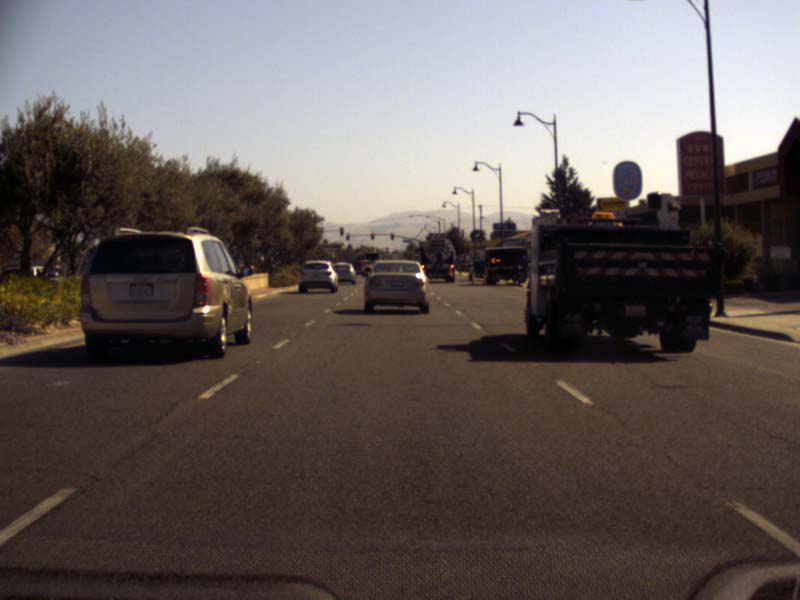Red: (369, 231, 374, 239), (345, 232, 349, 240)
